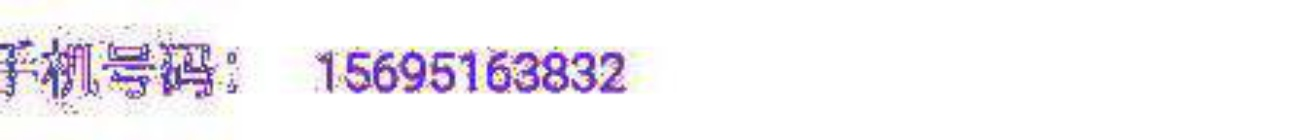EditText: (1, 1, 1294, 139)
